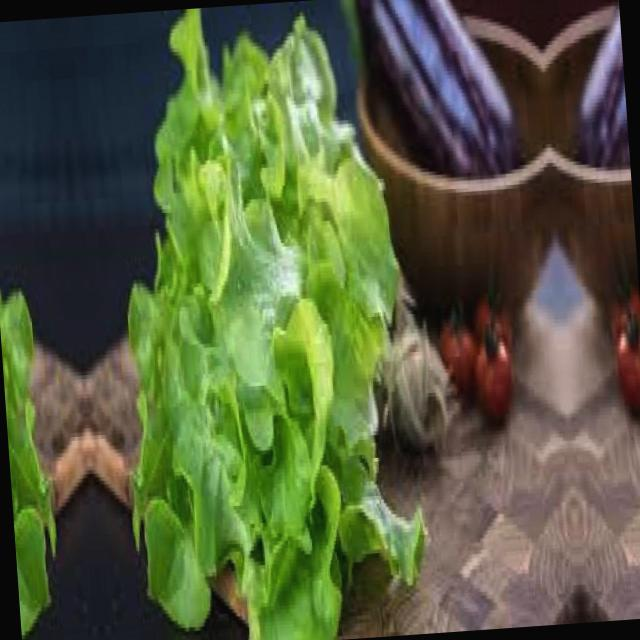healthy: (90, 0, 440, 640), (0, 19, 71, 640)
